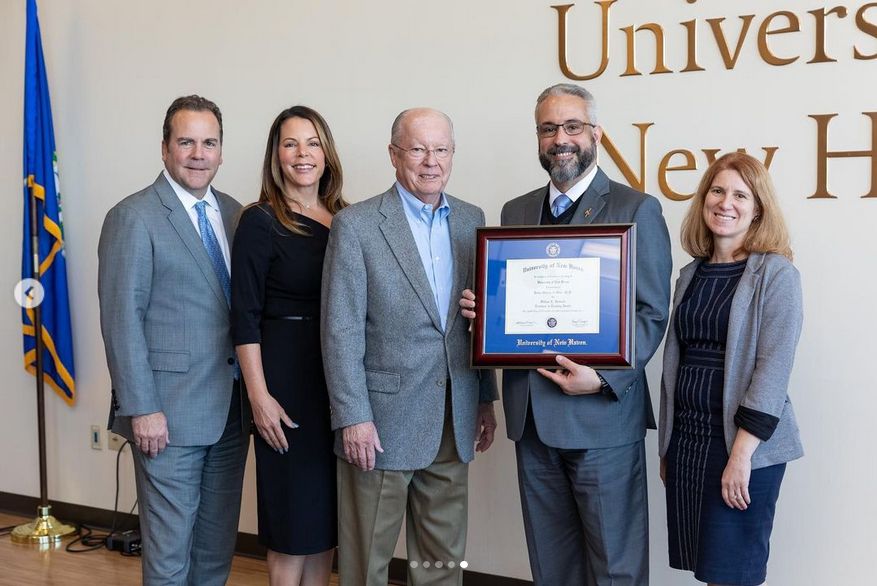Staff: (374, 107, 477, 237)
